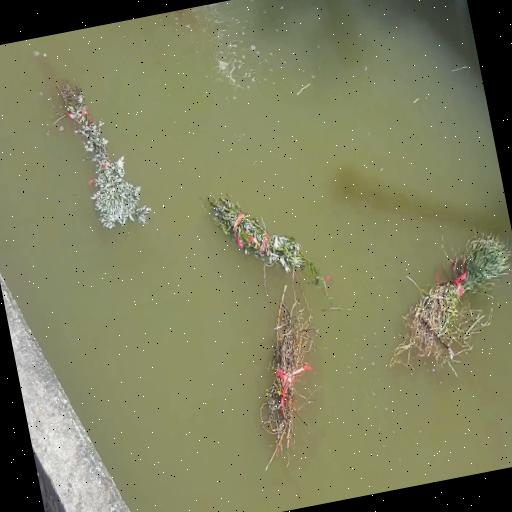twig: (43, 55, 150, 229), (388, 230, 511, 379), (207, 194, 325, 292), (260, 270, 316, 470)
